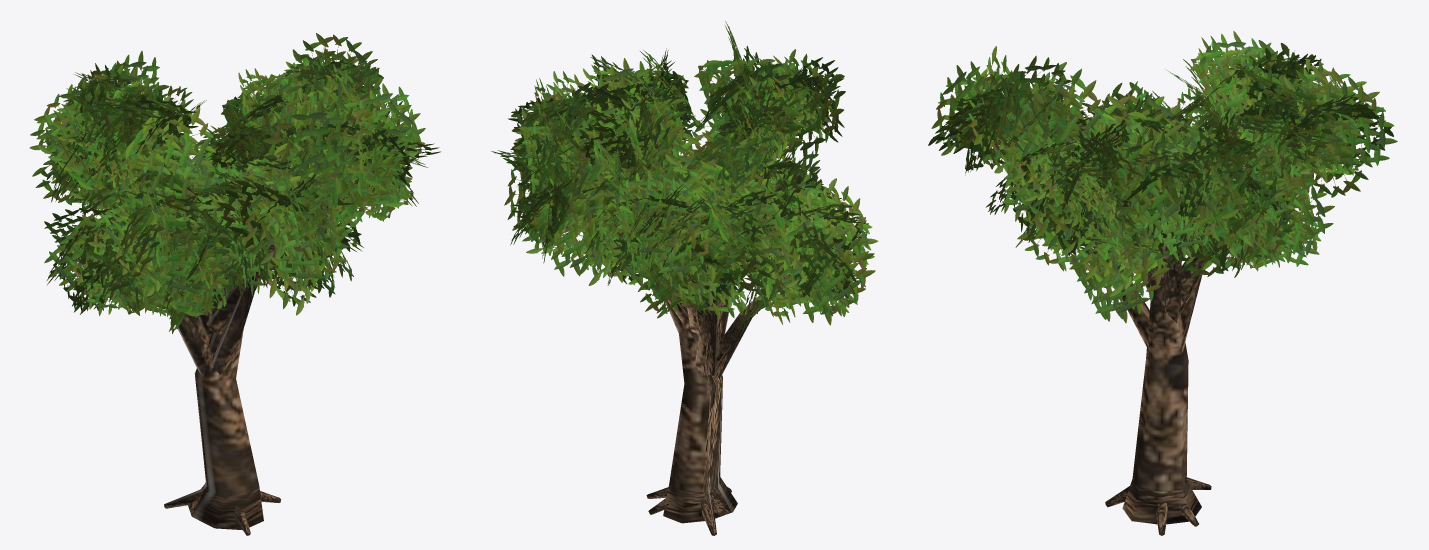
Rendered from Mango_Tree.glb.
The picture shows the model from 3 angles, left to right: view 1: azimuth 30°, elevation 25°; view 2: azimuth 150°, elevation 25°; view 3: azimuth 270°, elevation 25°; orthographic projection. The views are drawn at different scales.
Visible parts, largest first — view 1: Mango_Tree; view 2: Mango_Tree; view 3: Mango_Tree.
Boxes of the visible parts, x1,y1,x2,y2 form: Mango_Tree: [29, 33, 440, 535]; Mango_Tree: [491, 21, 878, 535]; Mango_Tree: [928, 30, 1397, 535].
Bounding box in the file's own units: 5.76 × 7 × 6.44.
2 materials, 2 textured.
